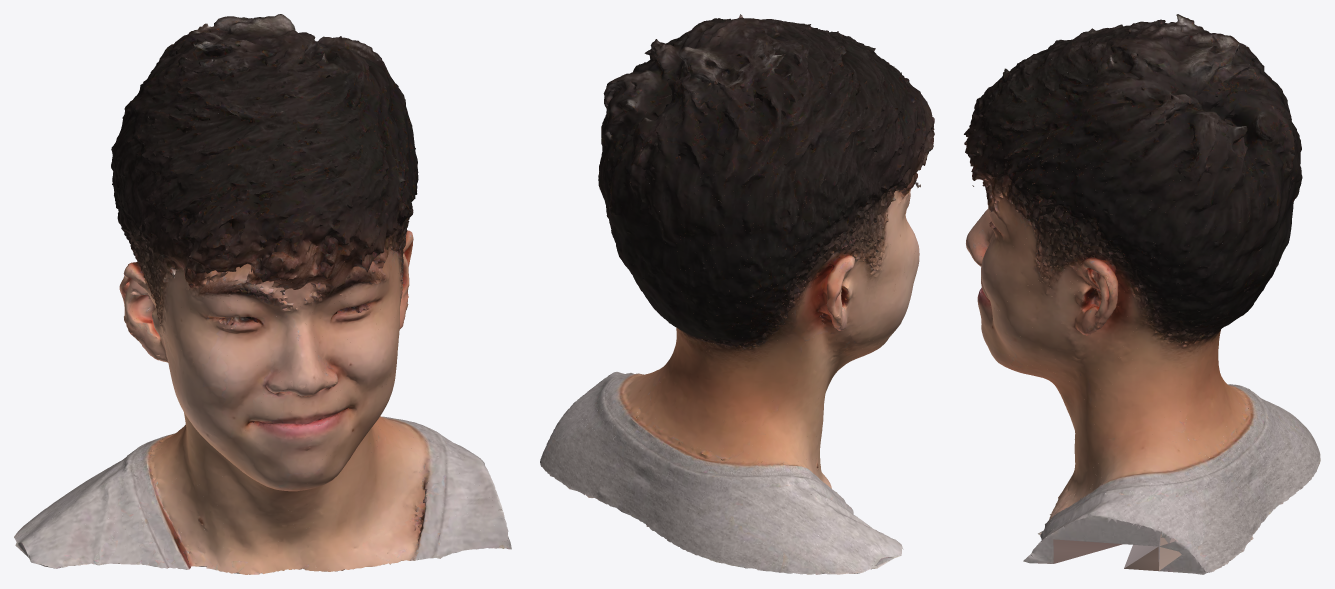
File: 真人头像_男_侧脸微笑男子01_opt.glb
3 renders of one model, left to right at view 1: azimuth 30°, elevation 25°; view 2: azimuth 150°, elevation 25°; view 3: azimuth 270°, elevation 25°, orthographic. The views are drawn at different scales.
Parts seen in each view (by area): view 1: js_Material_u1_v1, js_Material_u1_v1_2, js_Material_u1_v1_1, js_Material_u1_v1_3; view 2: js_Material_u1_v1, js_Material_u1_v1_2, js_Material_u1_v1_1, js_Material_u1_v1_3; view 3: js_Material_u1_v1, js_Material_u1_v1_2, js_Material_u1_v1_1, js_Material_u1_v1_3.
Boxes of the visible parts, x1,y1,x2,y2 form: js_Material_u1_v1: (14, 14, 511, 574); js_Material_u1_v1_2: (112, 16, 414, 318); js_Material_u1_v1_1: (23, 17, 509, 574); js_Material_u1_v1_3: (112, 17, 416, 311); js_Material_u1_v1: (540, 17, 934, 574); js_Material_u1_v1_2: (598, 14, 929, 272); js_Material_u1_v1_1: (540, 14, 934, 574); js_Material_u1_v1_3: (598, 18, 932, 277); js_Material_u1_v1: (966, 14, 1320, 574); js_Material_u1_v1_2: (964, 24, 1300, 277); js_Material_u1_v1_1: (964, 20, 1320, 574); js_Material_u1_v1_3: (964, 24, 1299, 273).
Bounding box in the file's own units: 0.2507 × 0.3 × 0.2139.
1 material, 1 textured.
